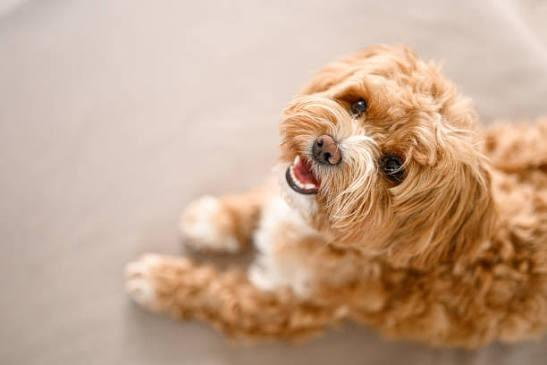adult_dog: (121, 39, 547, 350)
